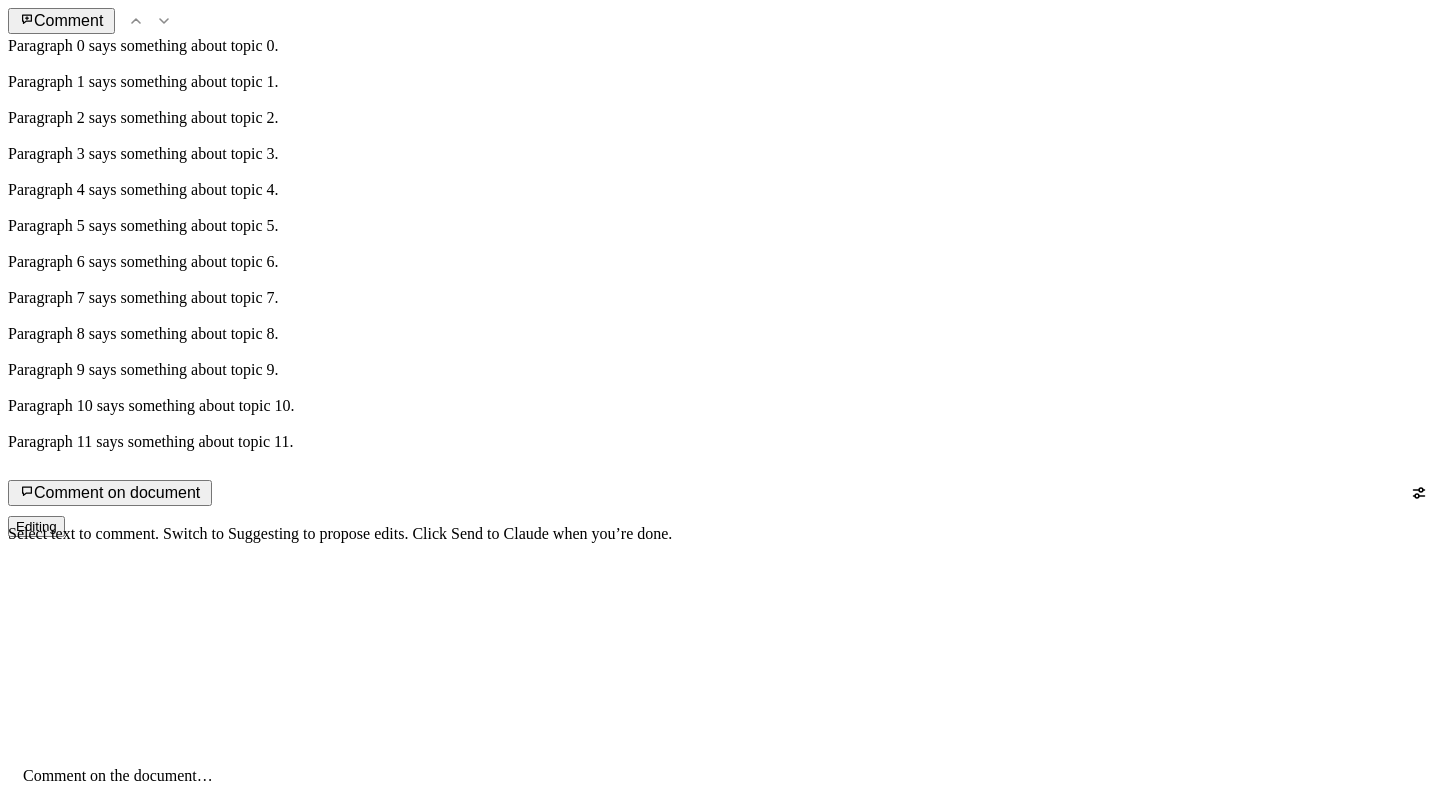
creating comments (§11.4, R2.1) › an empty new-comment card goes away when TJ clicks back into the text; a typed one stays
The width and height of the screenshot is (1440, 810).
Later steps or results of the test are not shown.
Click the button "Comment": [62, 21] box left=8, top=8, right=115, bottom=34
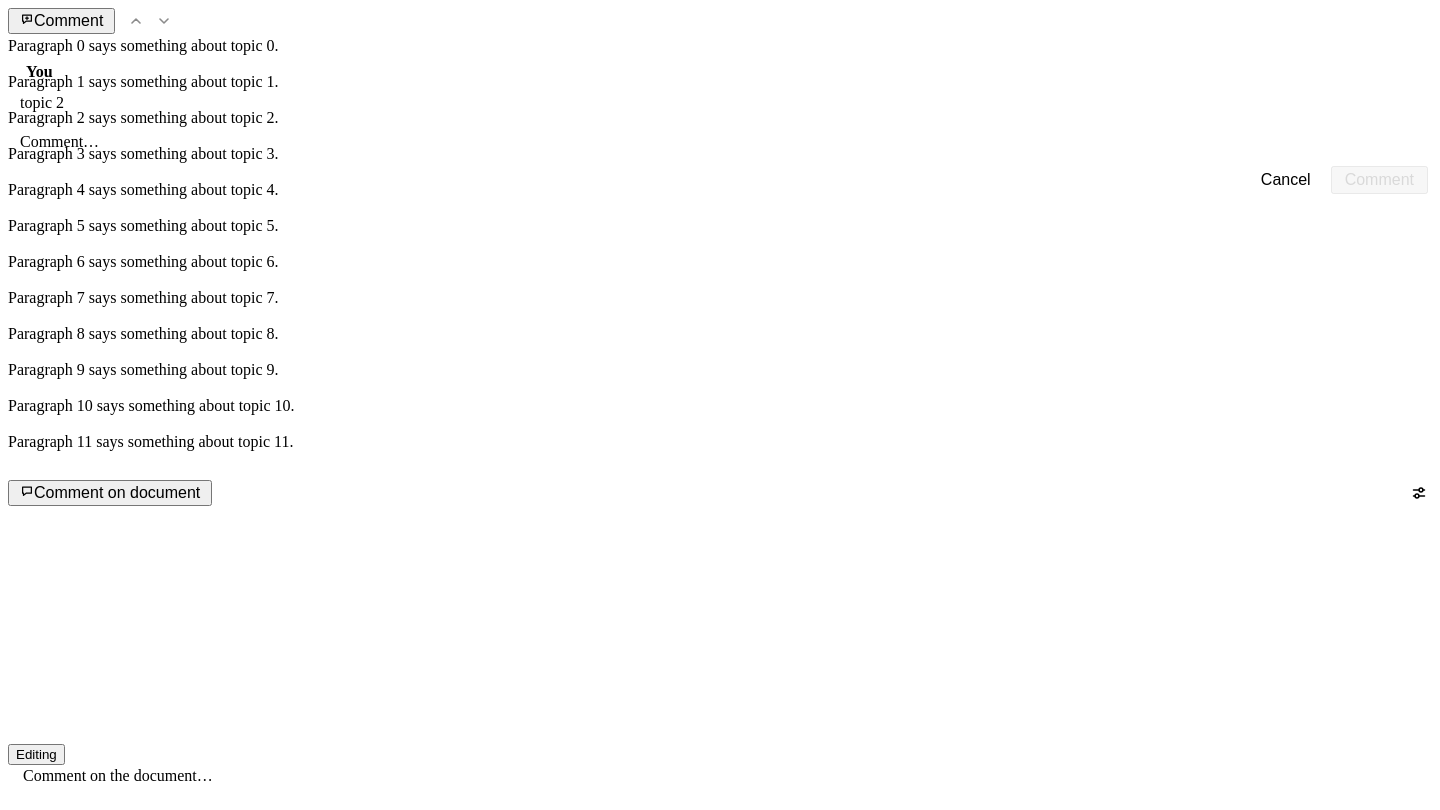
Check: the element showing "You topic 2 Cancel Comment" is shown, box left=0, top=50, right=1439, bottom=206
